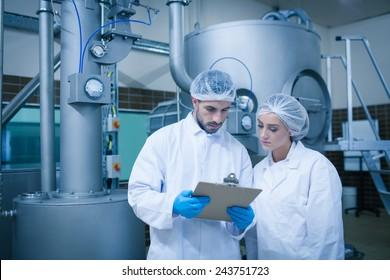gloves: (171, 189, 211, 221), (226, 204, 256, 230)
